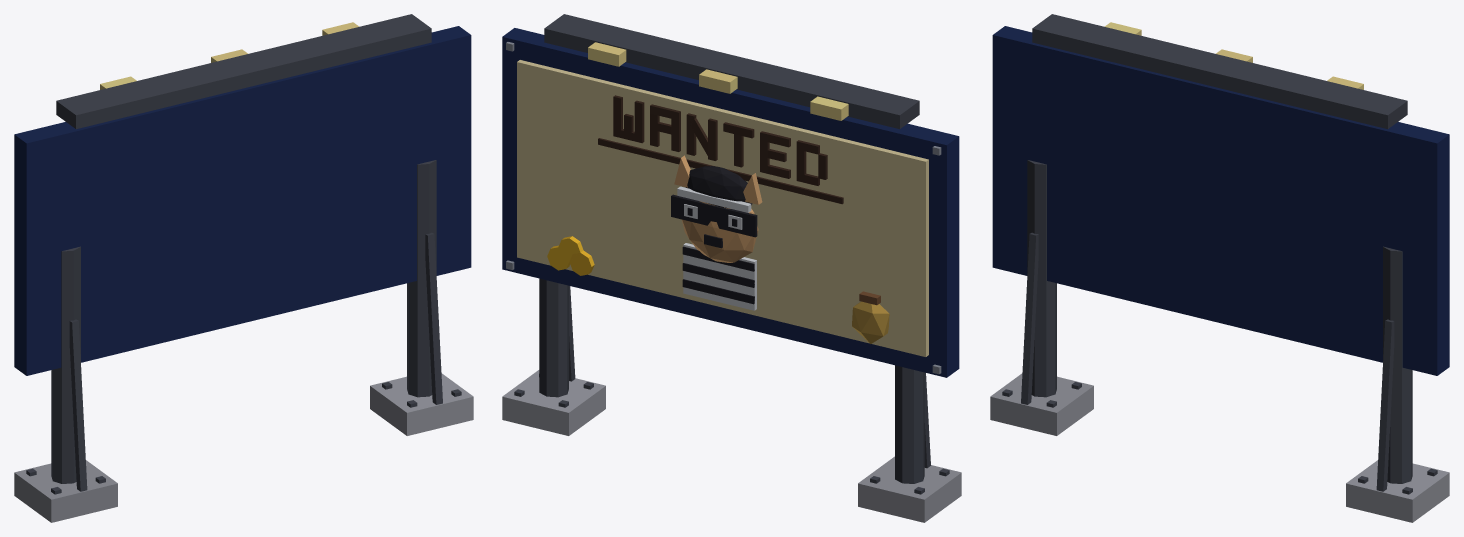
File: Decor_PoliceStation_Wanted.fbx
3 views of the same model, side by side, from view 1: azimuth 30°, elevation 25°; view 2: azimuth 150°, elevation 25°; view 3: azimuth 330°, elevation 25° (orthographic).
Parts seen in each view (by area): view 1: Wanted_Body; view 2: Wanted_Body; view 3: Wanted_Body.
Part boxes in pixels (box(x1,y1,x2,y2)): Wanted_Body: box(14, 14, 473, 522); Wanted_Body: box(502, 14, 961, 522); Wanted_Body: box(990, 14, 1449, 522).
Bounding box in the file's own units: 20 × 16.9 × 3.
